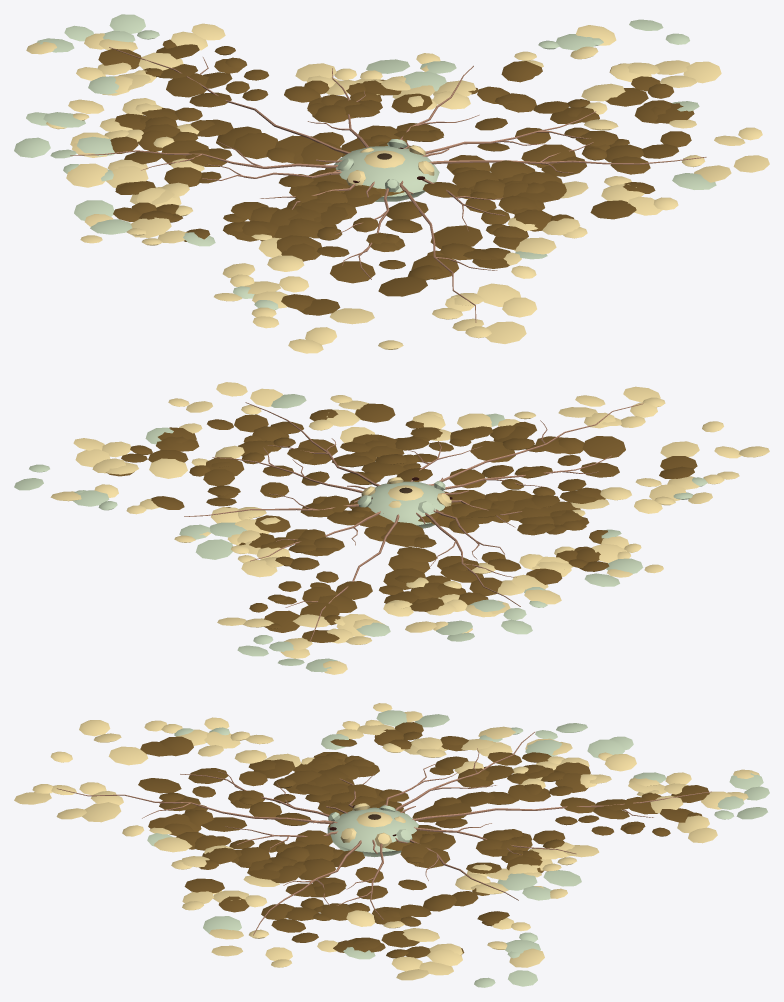
Rendered from e39_bed_moss.glb.
3 renders of one model, top to bottom at view 1: azimuth 30°, elevation 25°; view 2: azimuth 150°, elevation 25°; view 3: azimuth 270°, elevation 25°, orthographic. The views are drawn at different scales.
Parts seen in each view (by area): view 1: teil0, teil1, teil2, teil3; view 2: teil0, teil1, teil2, teil3; view 3: teil0, teil1, teil2, teil3.
Boxes of the visible parts, x1=… form: teil0: x1=98, y1=39, x2=694, y2=315; teil1: x1=26, y1=23, x2=769, y2=353; teil2: x1=14, y1=14, x2=716, y2=309; teil3: x1=70, y1=47, x2=706, y2=322; teil0: x1=106, y1=403, x2=697, y2=642; teil1: x1=50, y1=382, x2=769, y2=674; teil2: x1=14, y1=394, x2=707, y2=672; teil3: x1=184, y1=402, x2=643, y2=641; teil0: x1=138, y1=722, x2=709, y2=958; teil1: x1=14, y1=703, x2=759, y2=980; teil2: x1=147, y1=710, x2=769, y2=987; teil3: x1=57, y1=732, x2=711, y2=935.
Bounding box in the file's own units: 1.81 × 0.09 × 2.03.
